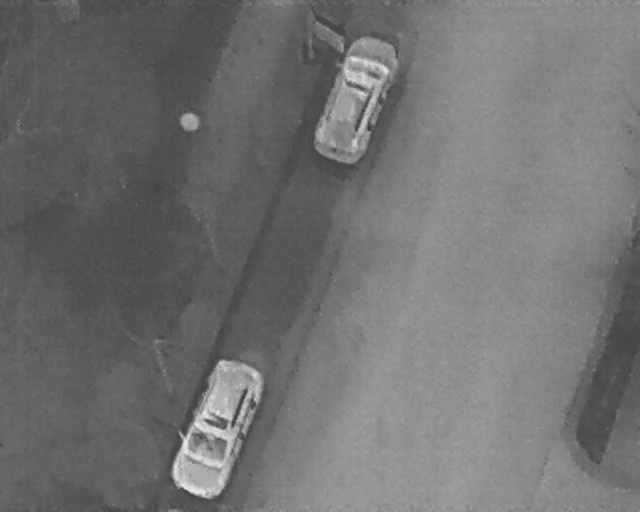Car: (164, 352, 268, 503), (308, 29, 401, 170)
